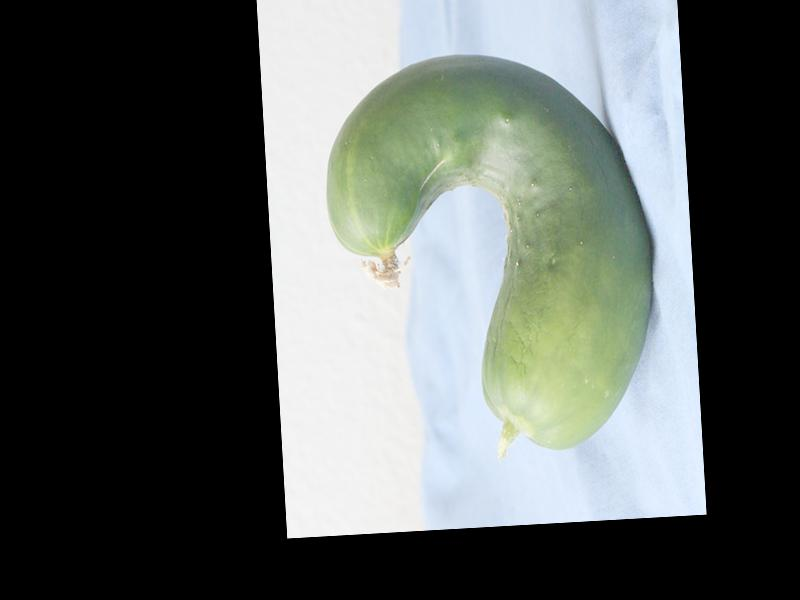Cucumber: (317, 43, 662, 462)
